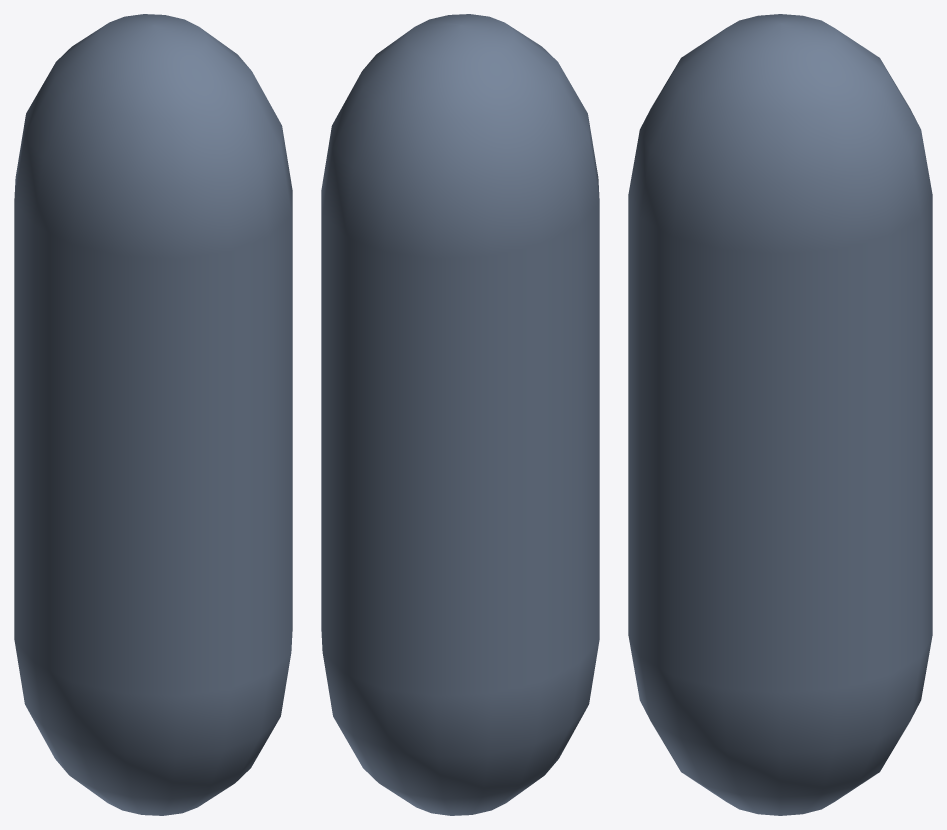
The model's file is leg-right.glb.
3 views of the same model, side by side, from view 1: azimuth 30°, elevation 25°; view 2: azimuth 150°, elevation 25°; view 3: azimuth 270°, elevation 25° (orthographic).
Visible parts, largest first — view 1: Leg_L_Upper; view 2: Leg_L_Upper; view 3: Leg_L_Upper.
Part boxes in pixels (x1,y1,x2,y2): Leg_L_Upper: (14,14,292,815); Leg_L_Upper: (321,14,599,815); Leg_L_Upper: (628,14,932,815).
Bounding box in the file's own units: 0.1144 × 0.3577 × 0.126.
